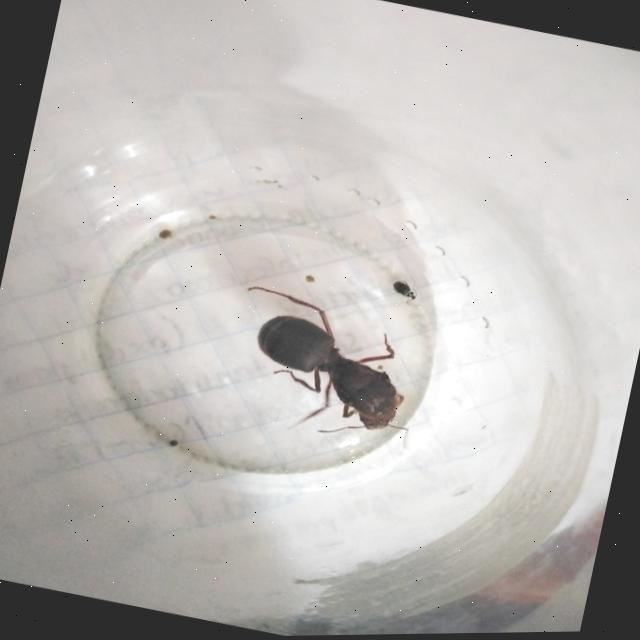Alive-Female-Dealate: (220, 282, 433, 457)
